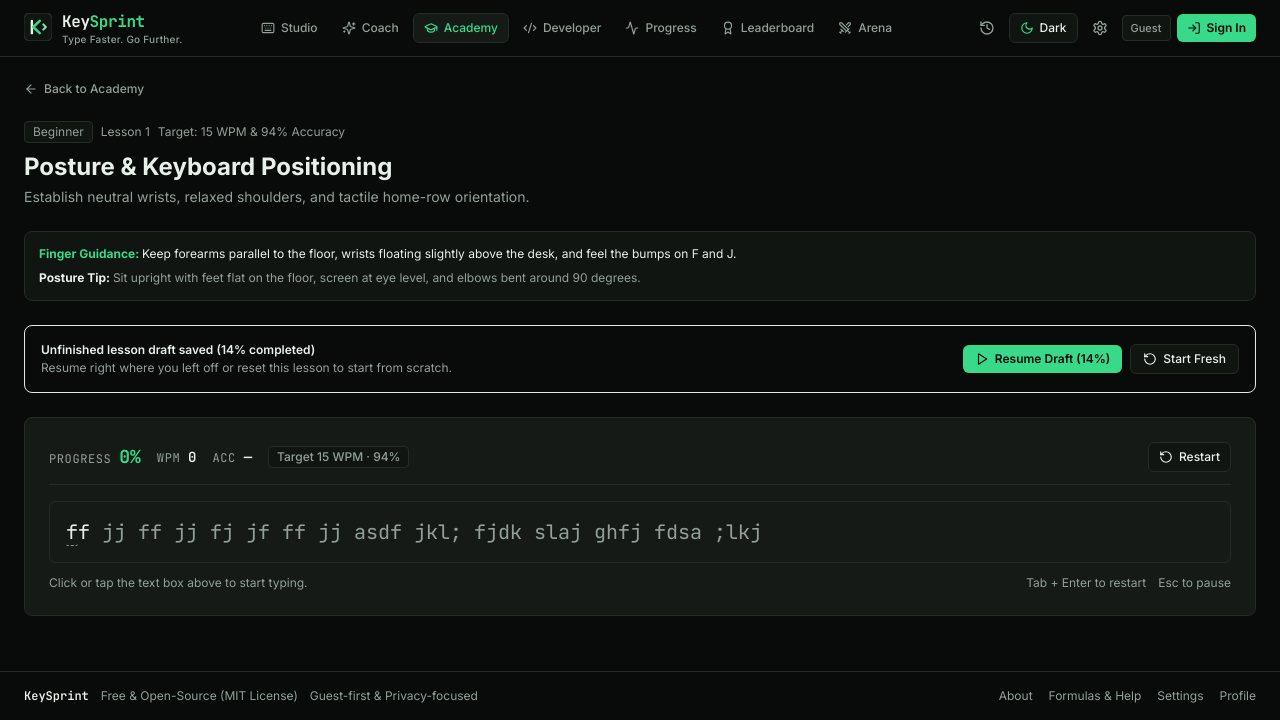
it: Phase 4: Academy, Coach, Goals & Progress Intelligence › supports resuming unfinished lesson drafts and resetting to start fresh as a guest
This screenshot has width=1280, height=720.
Expected: the text "Unfinished lesson draft saved (14% completed)" is shown, [41,342,315,357]
Expected: the text "Posture Tip:" is shown, [39,270,113,285]
Step 1. Click the button "Resume Draft (14%)" → (1042, 359), box [963,345,1122,373]
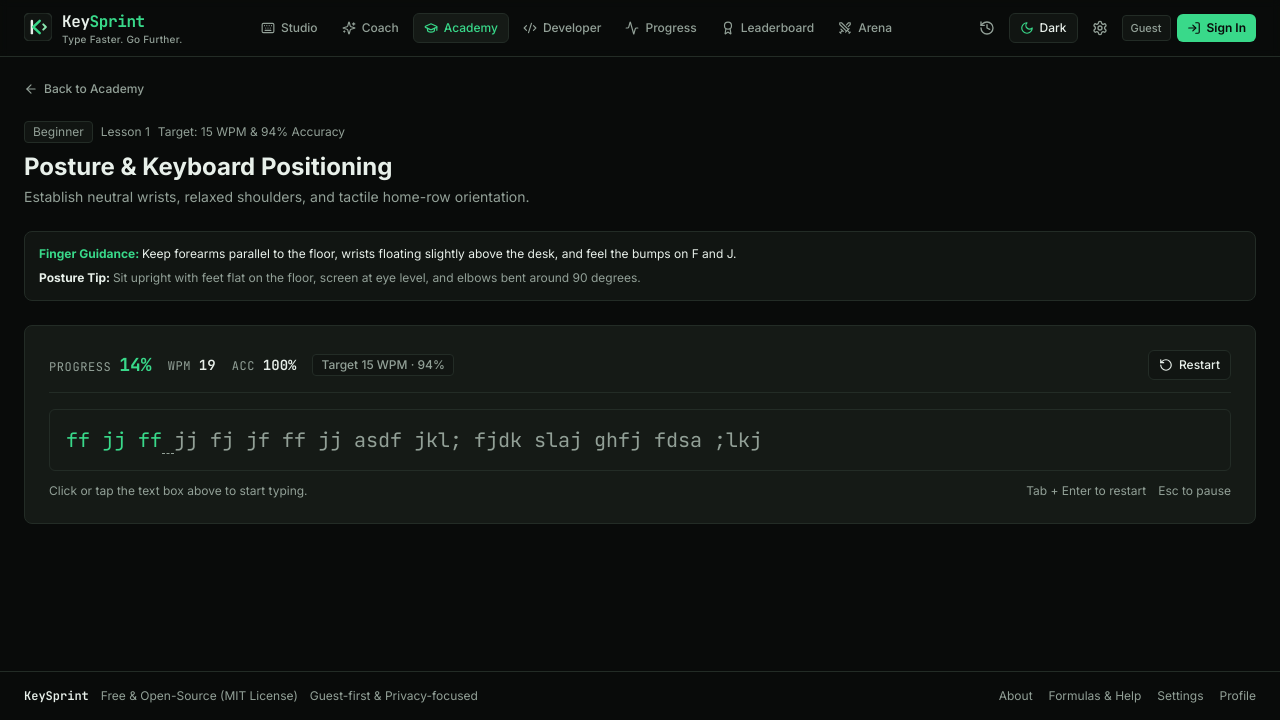
Expected: the text "14%" is shown, [119,353,152,376]
Expected: the text with test id "live-accuracy" reads "100%", [263,356,296,374]
